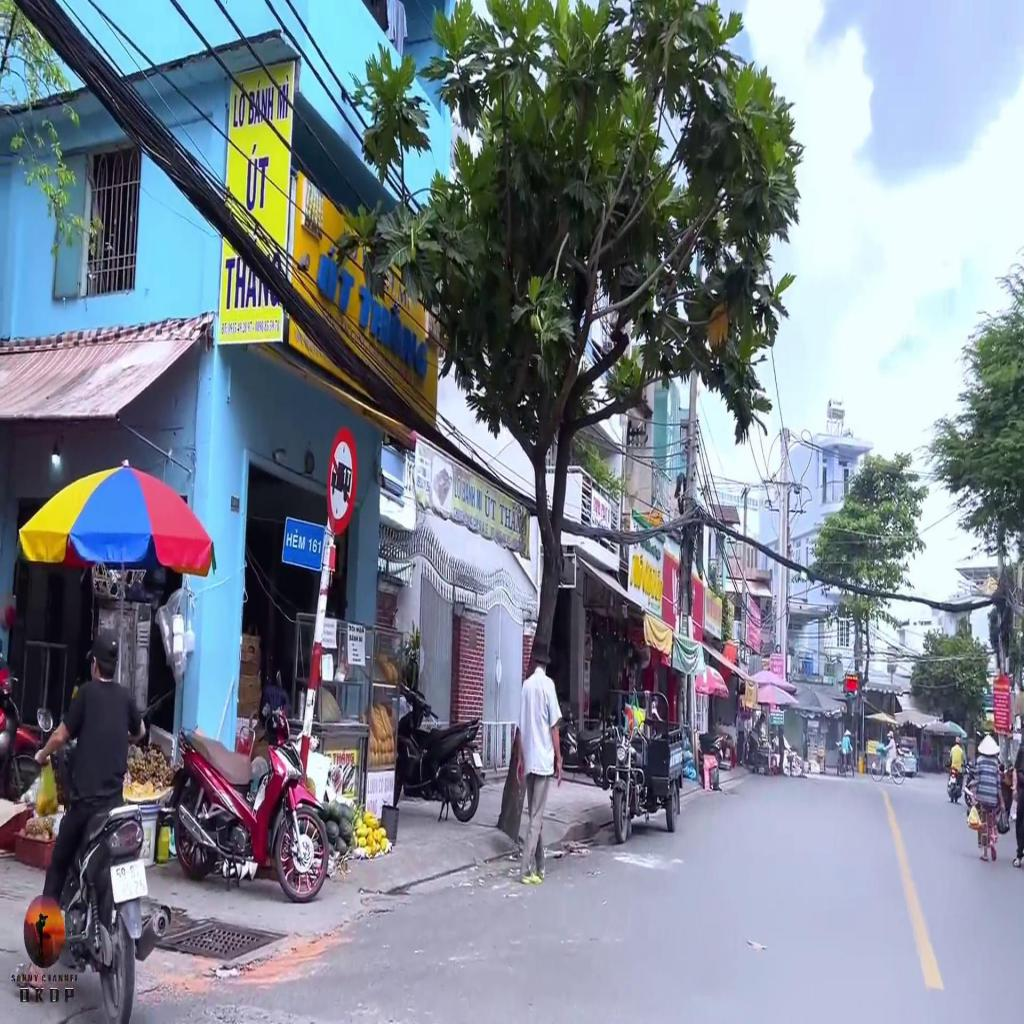cam_o_to_tai: (325, 426, 359, 540)
